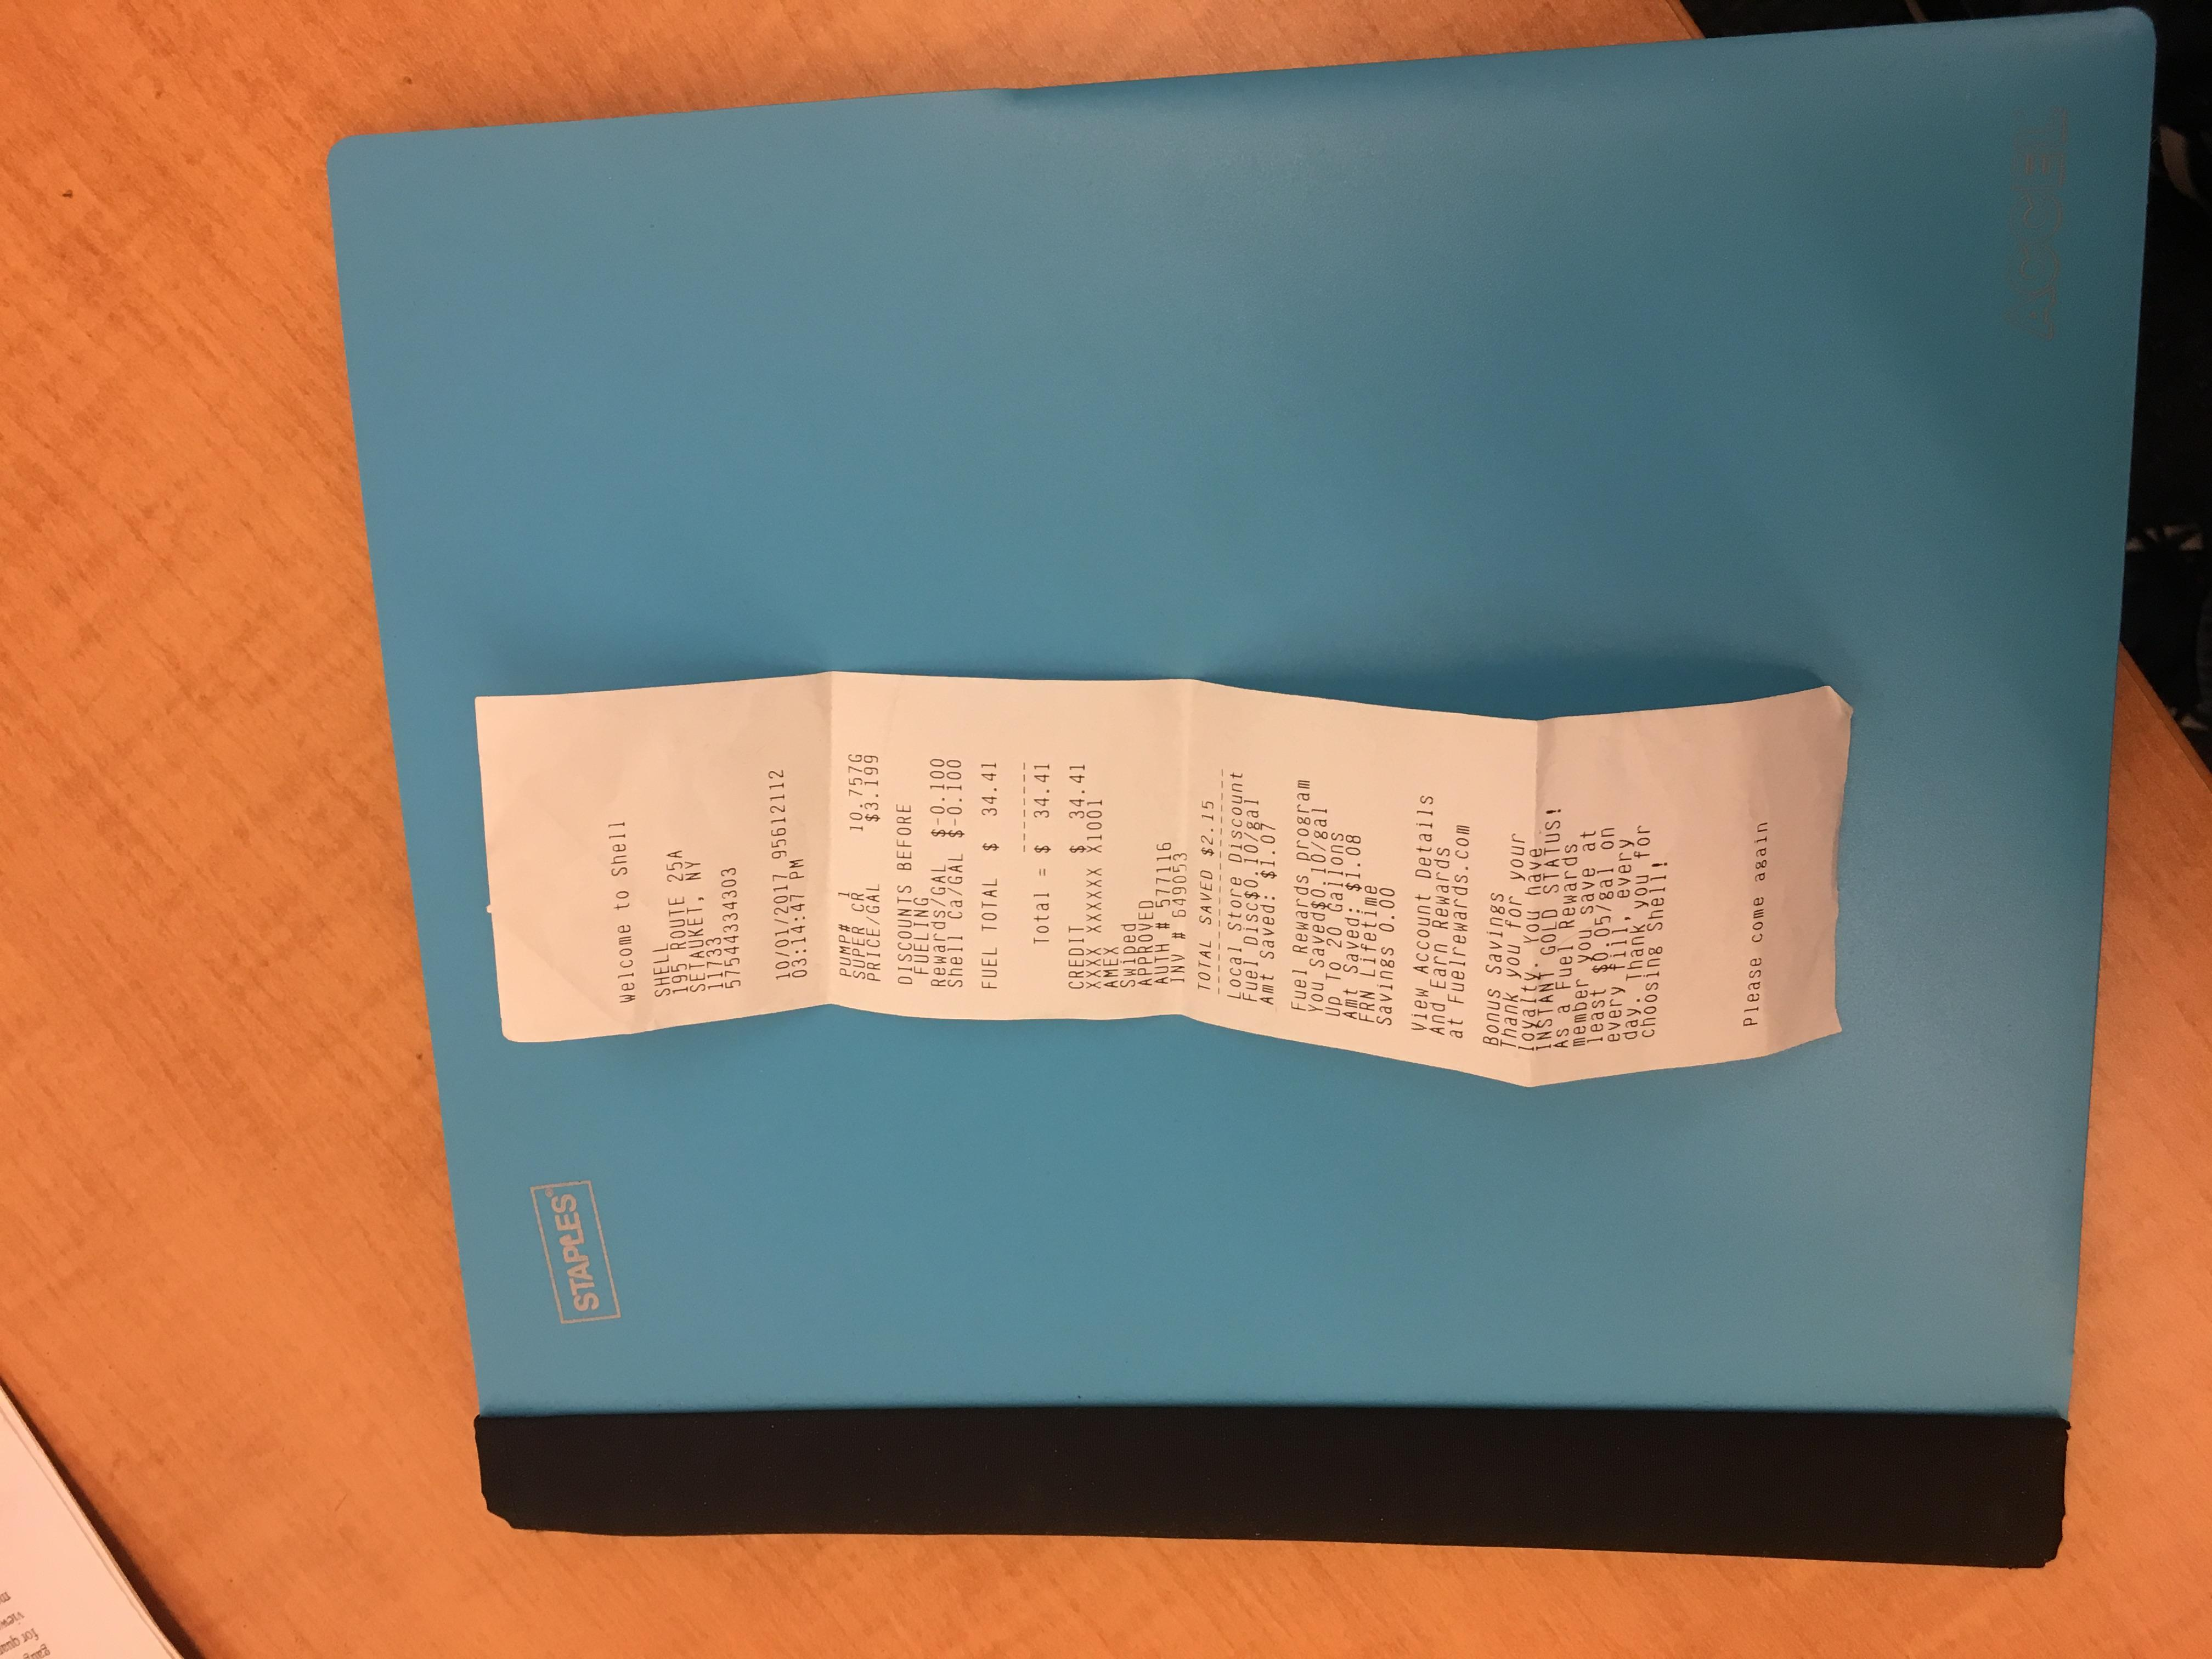paper: (629, 300, 1468, 1485)
